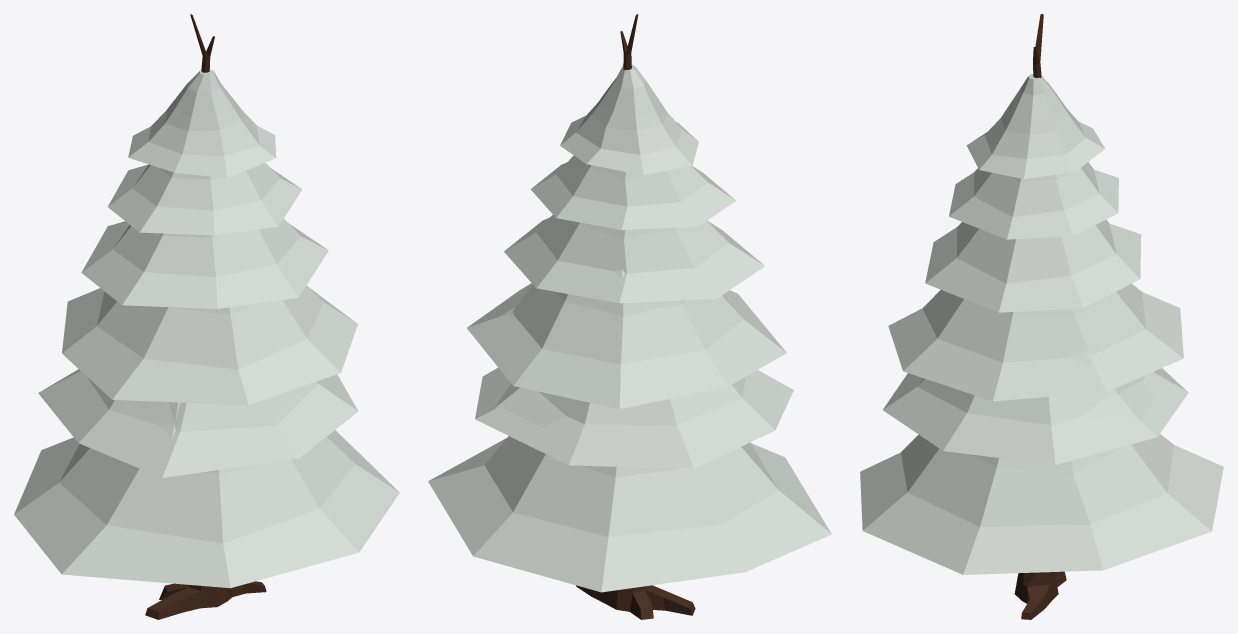
File: low poly fir.fbx
3 renders of one model, left to right at view 1: azimuth 30°, elevation 25°; view 2: azimuth 150°, elevation 25°; view 3: azimuth 270°, elevation 25°, orthographic. The views are drawn at different scales.
Parts seen in each view (by area): view 1: Cube.005, tronc; view 2: Cube.005, tronc; view 3: Cube.005, tronc.
Boxes of the visible parts, bbox=[...] form: Cube.005: bbox=[14, 69, 399, 588]; tronc: bbox=[145, 14, 266, 619]; Cube.005: bbox=[428, 64, 831, 592]; tronc: bbox=[576, 14, 695, 619]; Cube.005: bbox=[860, 74, 1223, 574]; tronc: bbox=[1014, 14, 1066, 619].
Bounding box in the file's own units: 1732 × 2877 × 1653.
